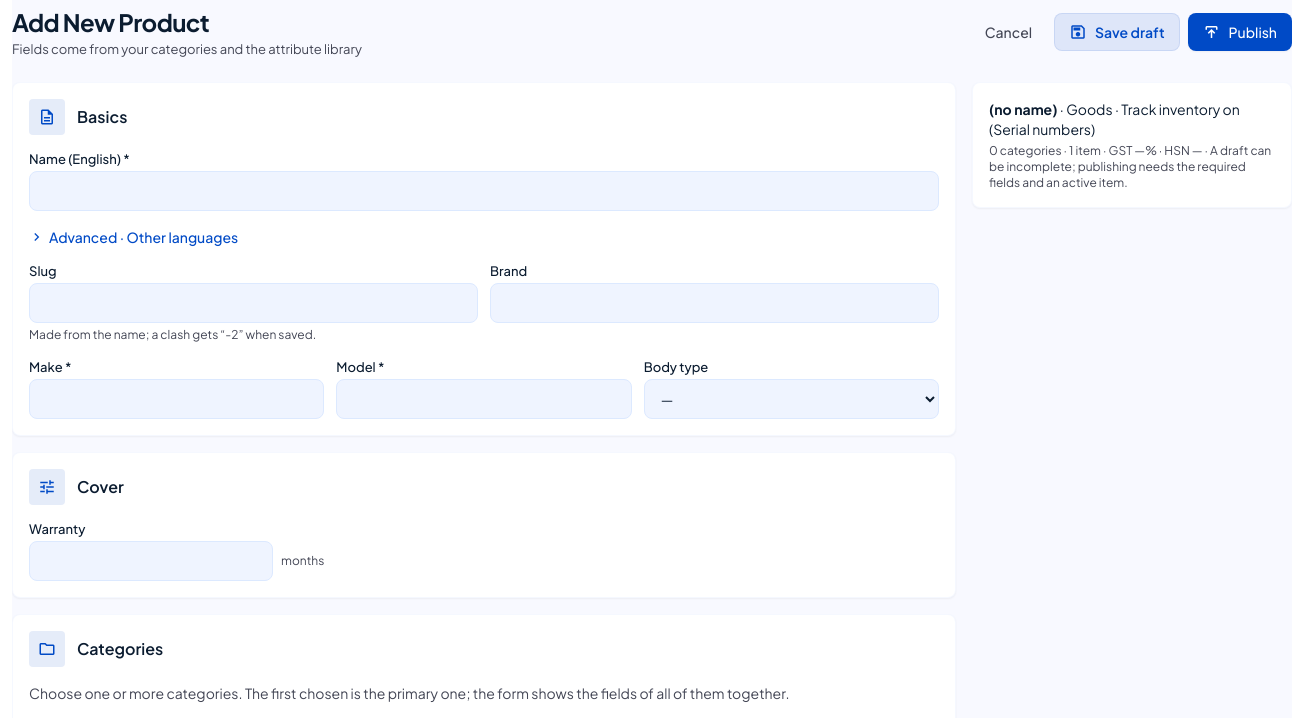
Test: AddEditProductV2Page — new product › holds back a price with more than 2 decimals and lists why
Type "X" into the field labelled "Name (English)". click: [484, 191]
box: [29,171,939,211]
(page scrolled)
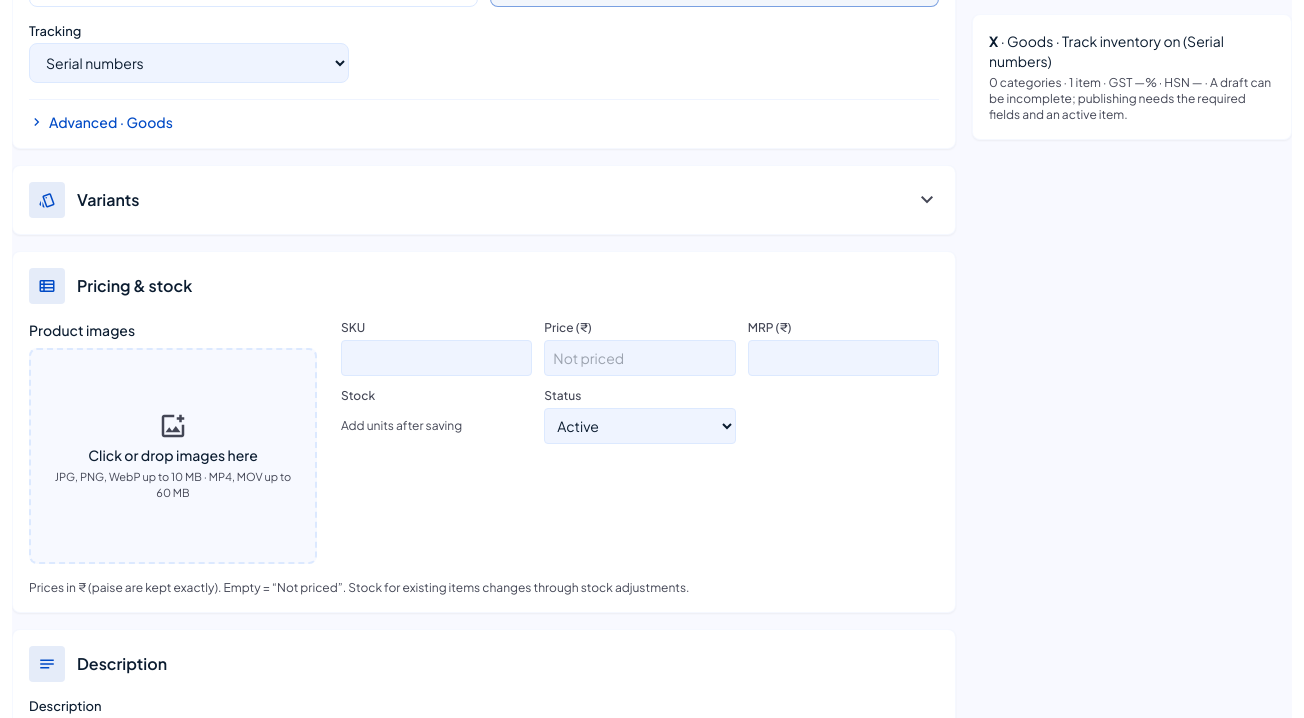
Type "12.345" into the field named "Price item". click: [640, 358]
box: [544,340,736,376]
(page scrolled)
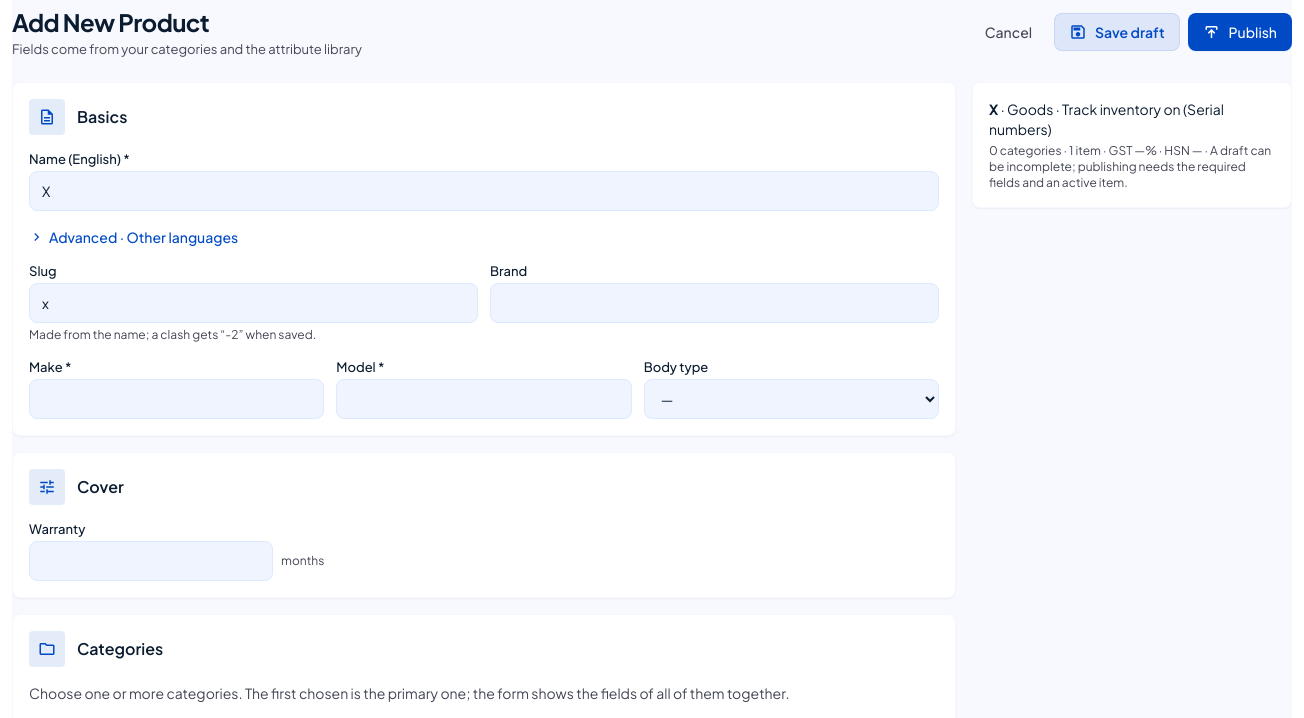
Click the button "Save draft". click: [1117, 32]
box: [1054,13,1180,51]
(page scrolled)
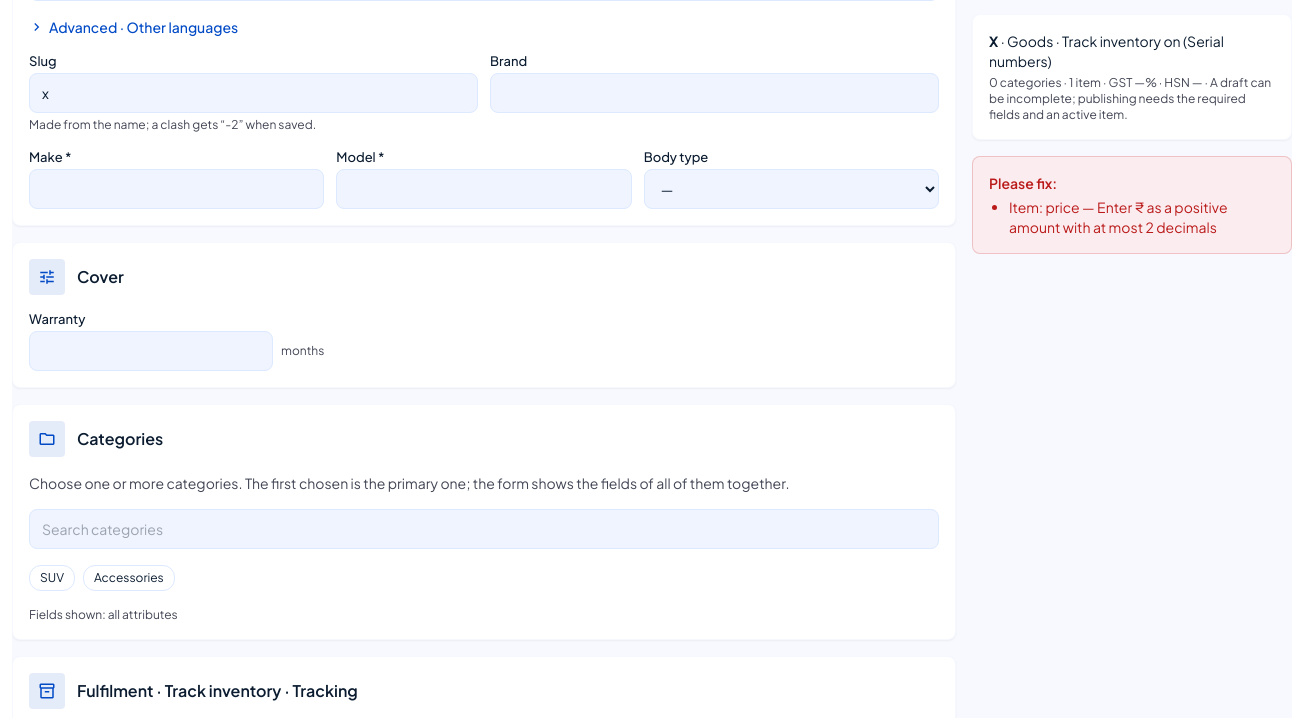
Expected: the message with test id "problems" shows "at most 2 decimals", [1009,198,1228,236]
